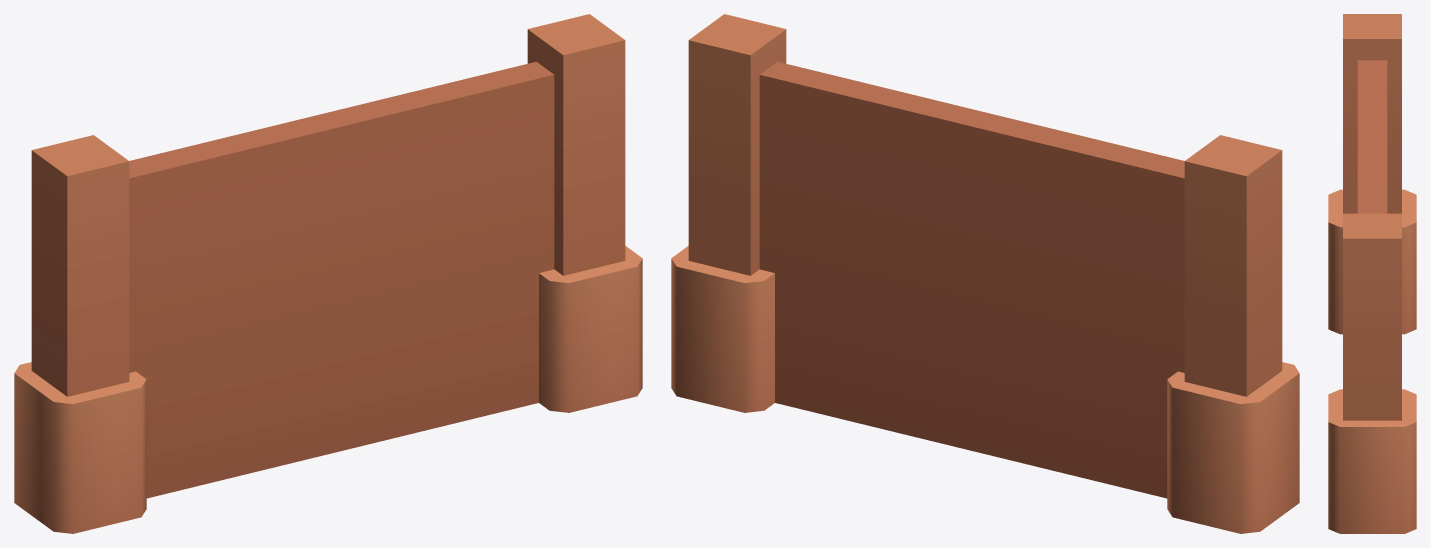
Rendered from fence.glb.
3 views of the same model, side by side, from view 1: azimuth 30°, elevation 25°; view 2: azimuth 150°, elevation 25°; view 3: azimuth 270°, elevation 25° (orthographic). The views are drawn at different scales.
Parts seen in each view (by area): view 1: fence; view 2: fence; view 3: fence.
Part boxes in pixels (bbox=[...]): fence: bbox=[14, 14, 642, 533]; fence: bbox=[671, 14, 1299, 533]; fence: bbox=[1328, 14, 1416, 533].
Size of the model in its own units: 0.475 by 0.27 by 0.075.
Materials: 1 (1 with a texture image).
